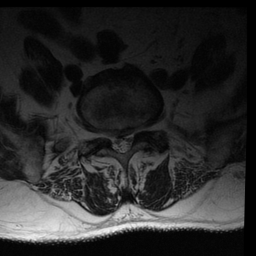CCS_normal: (117, 127, 126, 157)
LFS_stenosis: (134, 121, 142, 141)
LLS_normal: (127, 128, 134, 152)
RFS_stenosis: (103, 125, 110, 148)
RLS_normal: (111, 128, 117, 151)
